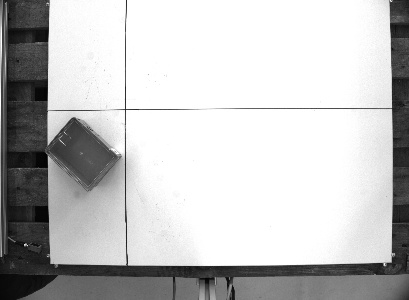klts: (44, 115, 123, 194)
